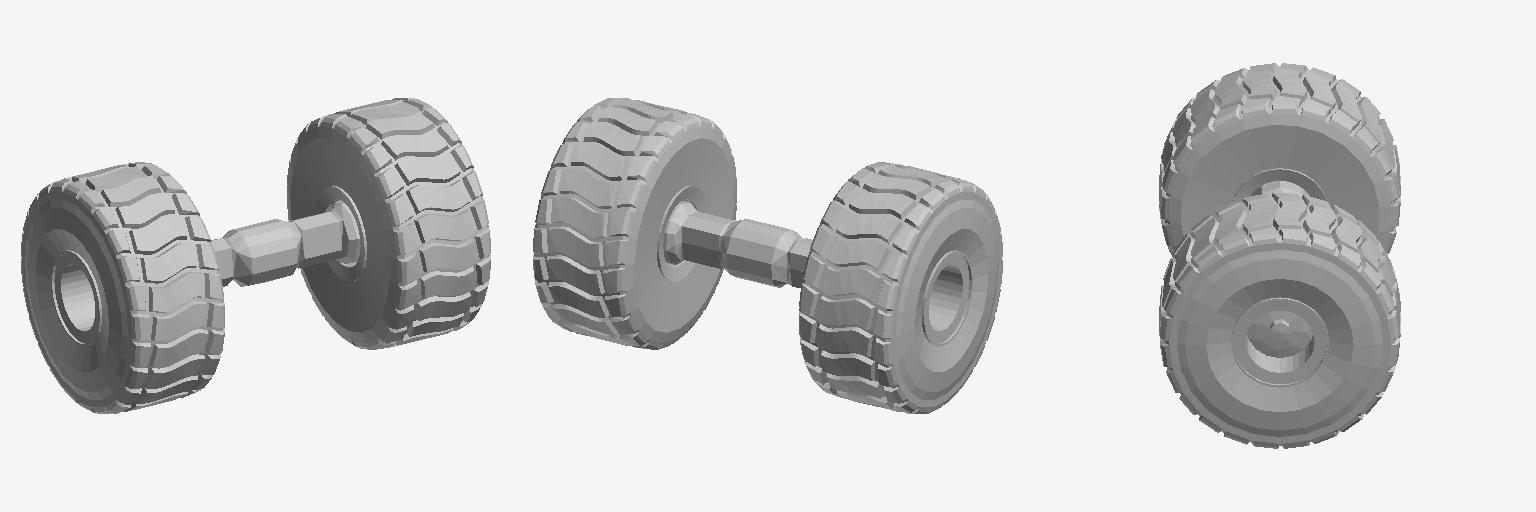
File: GWMaquina.obj
3 views of the same model, side by side, from view 1: azimuth 30°, elevation 25°; view 2: azimuth 150°, elevation 25°; view 3: azimuth 270°, elevation 25° (orthographic).
Visible parts, largest first — view 1: wheel_low, wheel_cilinder_low, wheel_cilinder_inside_low; view 2: wheel_low, wheel_cilinder_low, wheel_cilinder_inside_low; view 3: wheel_low, wheel_cilinder_inside_low, wheel_cilinder_low.
Part boxes in pixels (bbox=[...]): wheel_low: bbox=[21, 98, 490, 413]; wheel_cilinder_low: bbox=[211, 200, 360, 286]; wheel_cilinder_inside_low: bbox=[51, 185, 366, 346]; wheel_low: bbox=[533, 98, 1002, 413]; wheel_cilinder_low: bbox=[663, 201, 812, 287]; wheel_cilinder_inside_low: bbox=[657, 186, 972, 346]; wheel_low: bbox=[1159, 63, 1400, 448]; wheel_cilinder_inside_low: bbox=[1231, 168, 1328, 387]; wheel_cilinder_low: bbox=[1247, 181, 1312, 357].
Bounding box in the file's own units: 3.59 × 2.04 × 2.04.